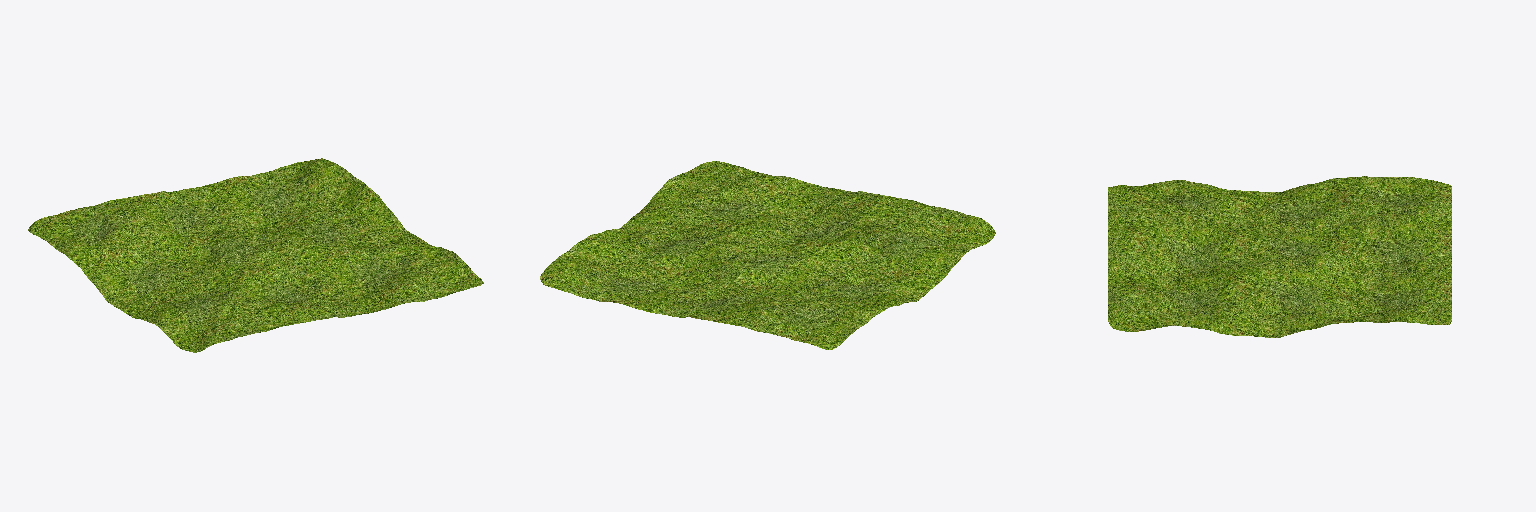
The picture shows the model from 3 angles: view 1: azimuth 30°, elevation 25°; view 2: azimuth 150°, elevation 25°; view 3: azimuth 270°, elevation 25°; orthographic projection.
Visible parts, largest first — view 1: Grid; view 2: Grid; view 3: Grid.
Part boxes in pixels (bbox=[...]): Grid: bbox=[28, 158, 483, 352]; Grid: bbox=[540, 161, 995, 349]; Grid: bbox=[1108, 176, 1451, 337].
Size of the model in its own units: 10 by 0.8 by 10.
Materials: 1 (1 with a texture image).